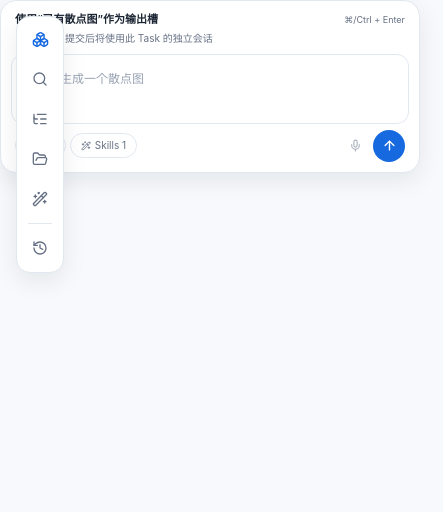
it: Canvas Task Run panel › opens the existing Node Skills workbench from the effective Skills summary
Click the button with test id "canvas-task-skills-summary".
click(103, 146)  # box [70,133,137,158]
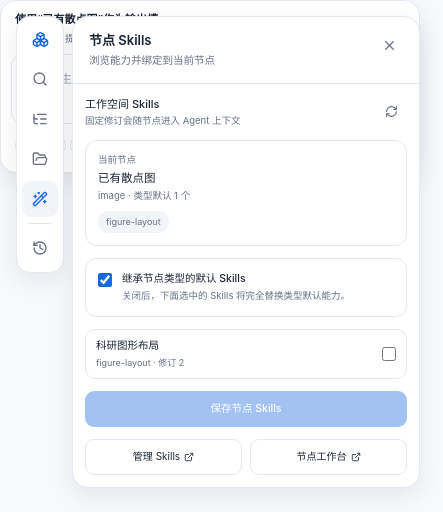
Expected: the button named "节点 Skills" is shown, [22,181,58,217]
Expected: the element named "可用 Skills" shows "科研图形布局", [85,329,407,379]
